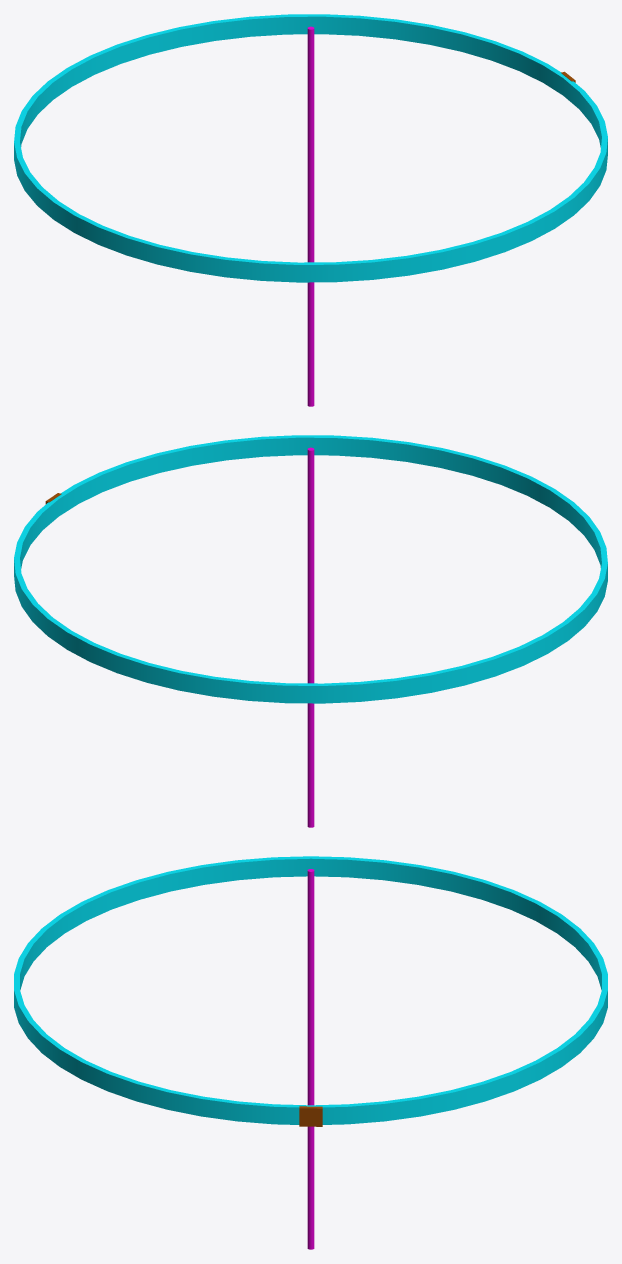
Rendered from pianzhaun.FBX.
3 renders of one model, top to bottom at view 1: azimuth 30°, elevation 25°; view 2: azimuth 150°, elevation 25°; view 3: azimuth 270°, elevation 25°, orthographic.
Visible parts, largest first — view 1: Cylinder001, Cylinder003; view 2: Cylinder001, Cylinder003; view 3: Cylinder001, Cylinder003.
Part boxes in pixels (x1=…): Cylinder001: x1=14, y1=14, x2=607, y2=282; Cylinder003: x1=307, y1=26, x2=314, y2=406; Cylinder001: x1=14, y1=435, x2=607, y2=703; Cylinder003: x1=307, y1=447, x2=314, y2=827; Cylinder001: x1=14, y1=856, x2=607, y2=1124; Cylinder003: x1=307, y1=869, x2=314, y2=1249.
Bounding box in the file's own units: 39.54 × 27.57 × 39.29.
